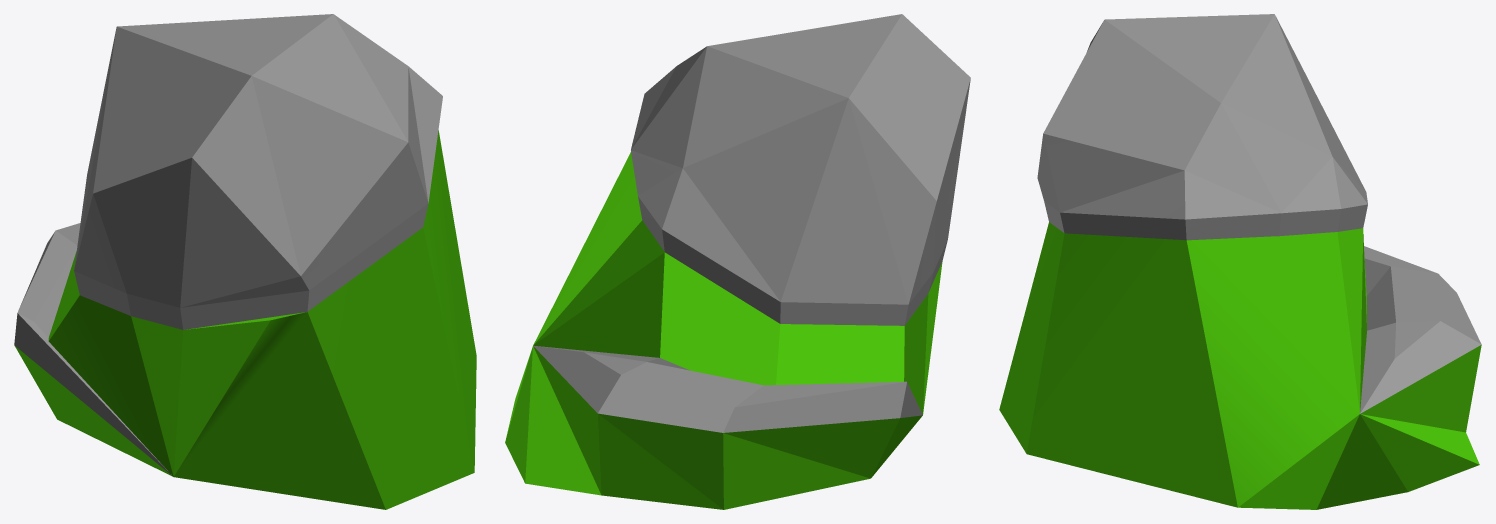
Rendered from Bush5.FBX.
3 renders of one model, left to right at view 1: azimuth 30°, elevation 25°; view 2: azimuth 150°, elevation 25°; view 3: azimuth 270°, elevation 25°, orthographic. The views are drawn at different scales.
Parts seen in each view (by area): view 1: Bush5_B, Bush5; view 2: Bush5_B, Bush5; view 3: Bush5, Bush5_B.
Part boxes in pixels (x1,y1,x2,y2): Bush5_B: (14,14,442,475); Bush5: (14,130,476,509); Bush5_B: (533,14,970,432); Bush5: (505,152,942,509); Bush5: (999,222,1481,509); Bush5_B: (1037,14,1481,413).
Bounding box in the file's own units: 3931 × 3623 × 4403.
